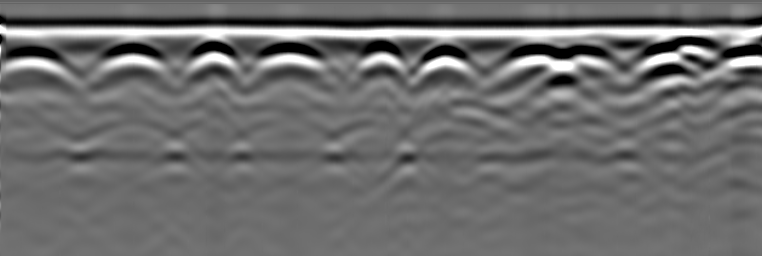pipe: (734, 27, 762, 57)
steel: (1, 46, 70, 82), (101, 43, 166, 80), (418, 42, 475, 82), (500, 42, 562, 78), (264, 40, 321, 75), (561, 44, 623, 76), (638, 41, 693, 75), (354, 42, 403, 75), (189, 40, 233, 74)
